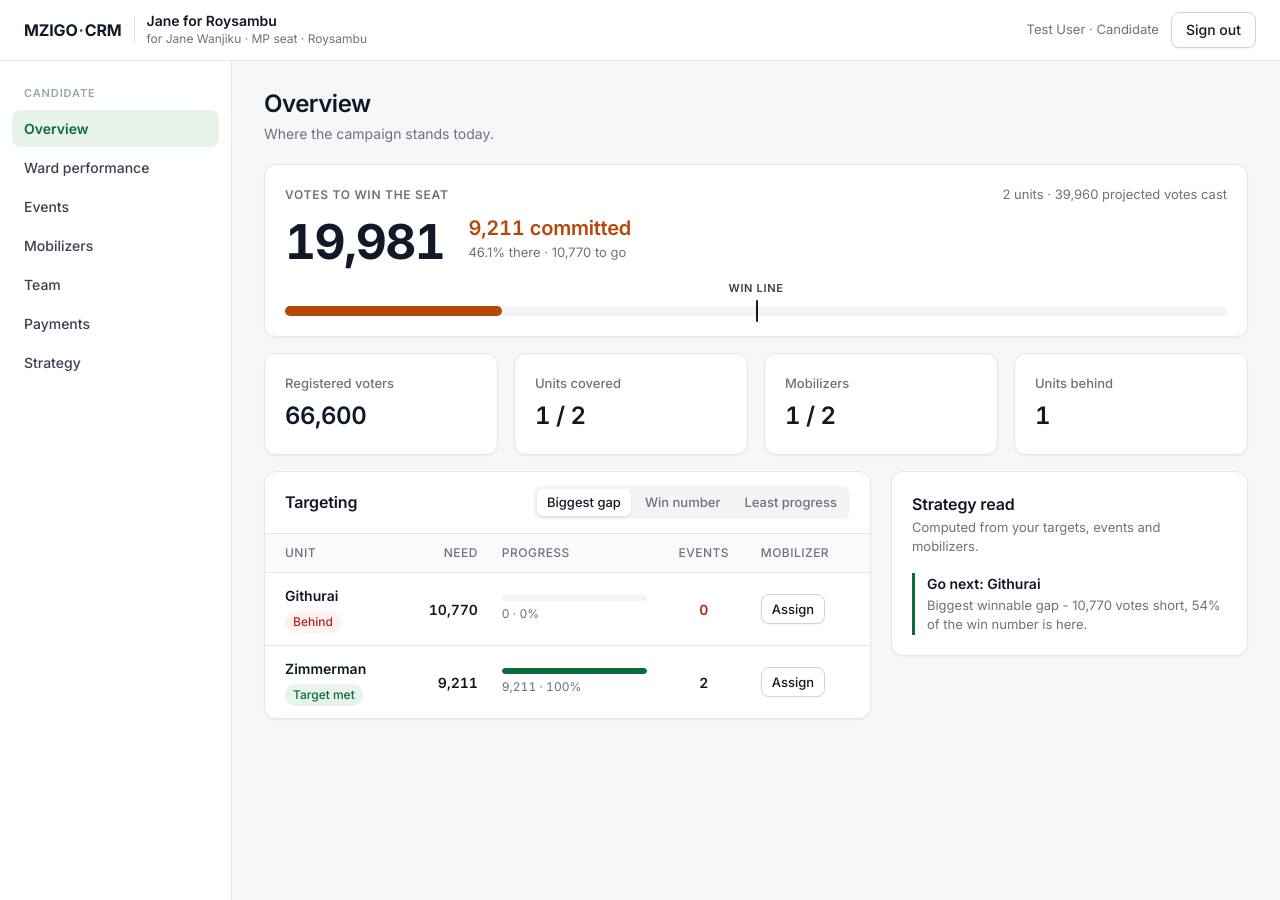
the team page › offers the aspirant Add manager when there is none, and adds without replacing
Click the button "Team".
click(116, 284)  # box [12,266,219,303]
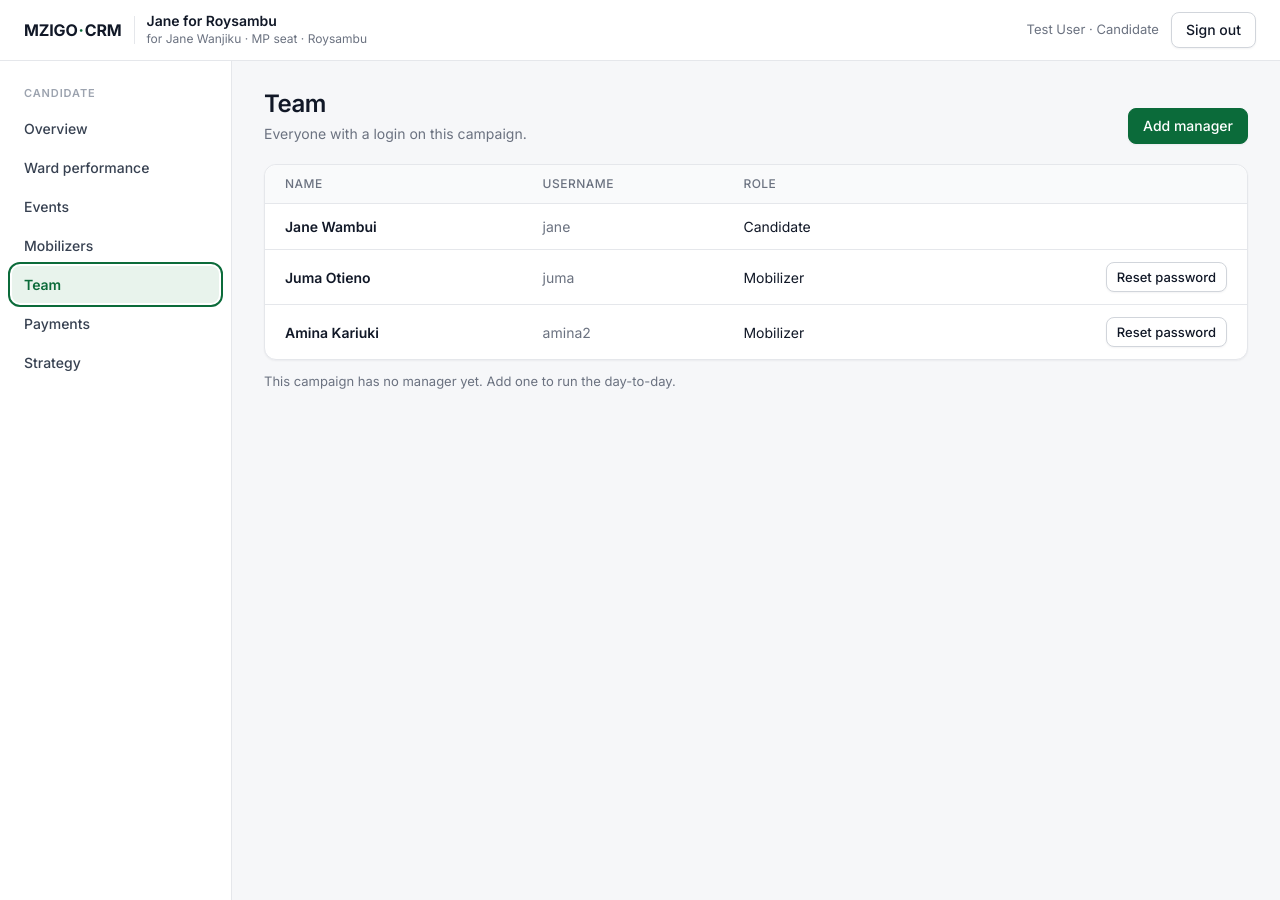
expect the text "Amina Kariuki" is shown: met, box [265,305,531,359]
Click the button "Add manager".
click(1188, 126)  # box [1128,108,1248,144]
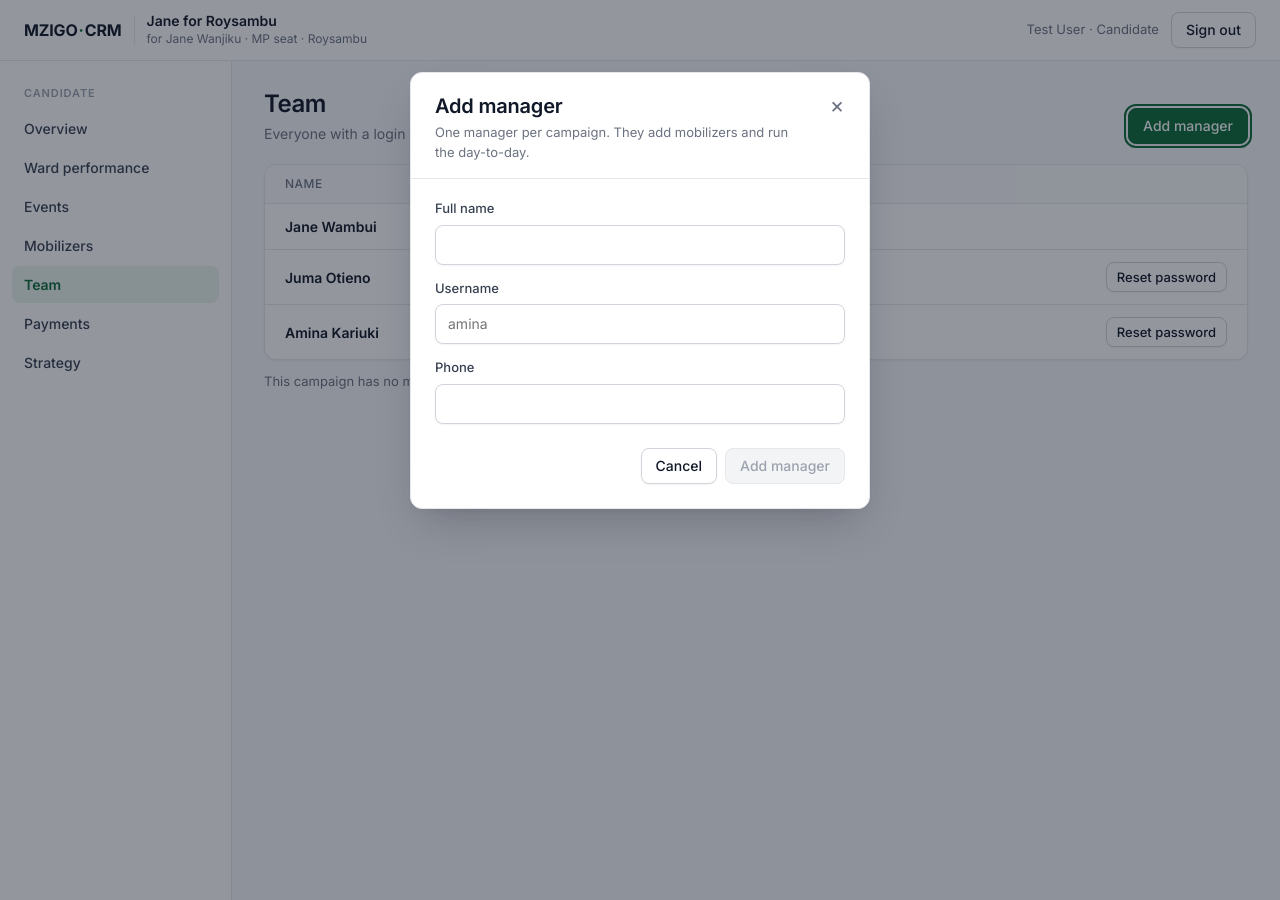
Type "Wanjiru" into the field named "Full name".
click(640, 244); type("Wanjiru")  # box [435,224,845,264]
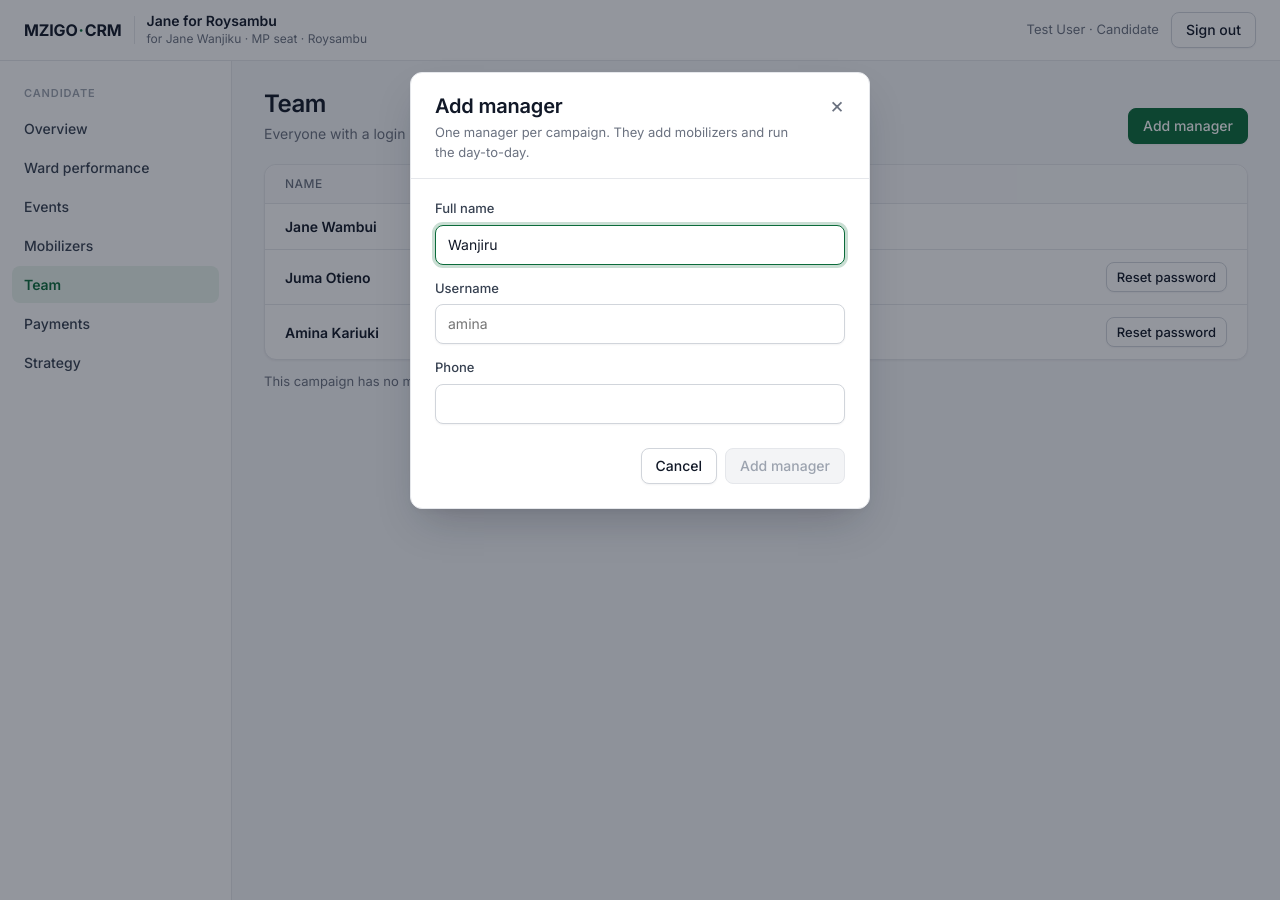
Type "wanjiru" into the field named "Username".
click(640, 324); type("wanjiru")  # box [435,304,845,344]
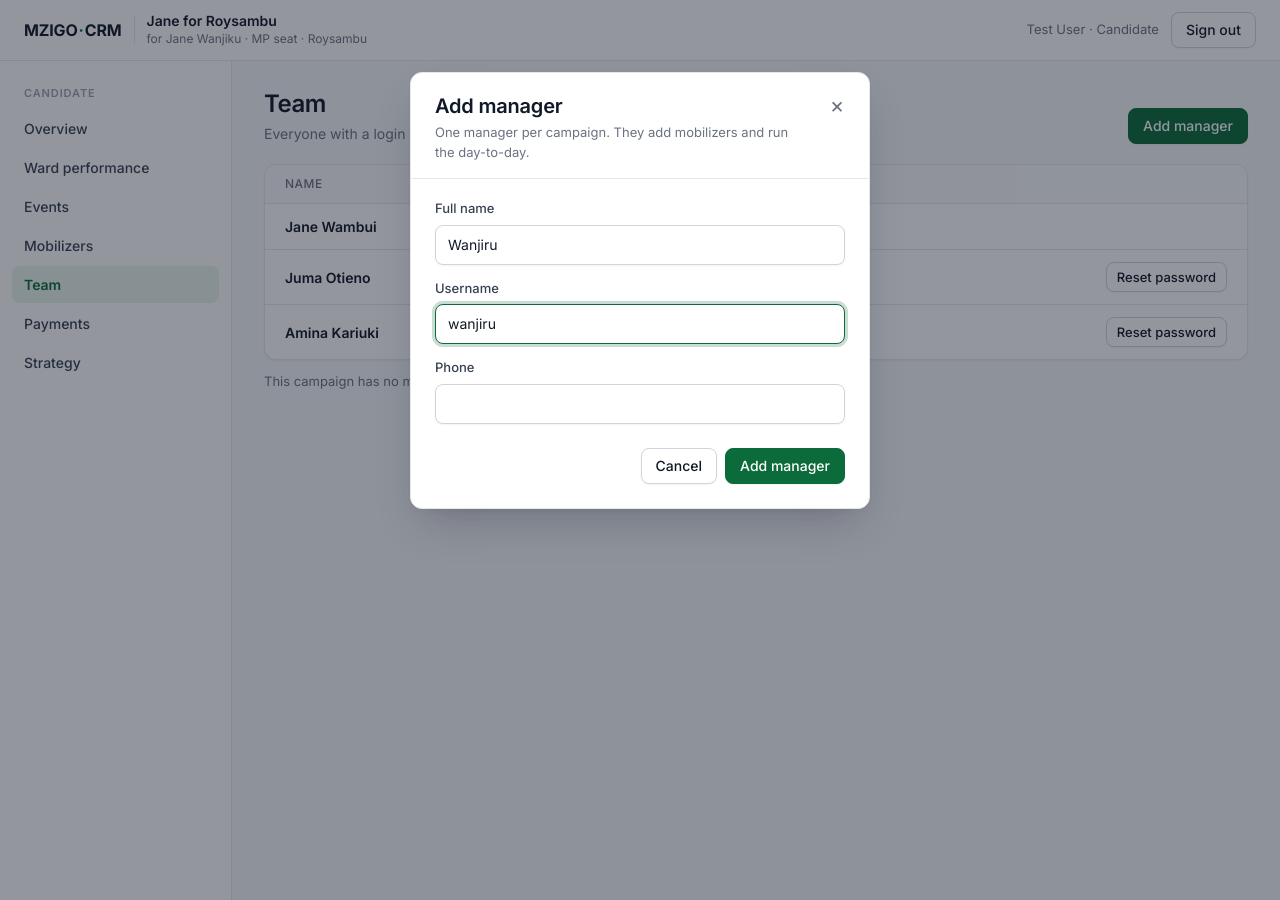
Click the button "Add manager".
click(785, 466)  # box [725,448,845,484]
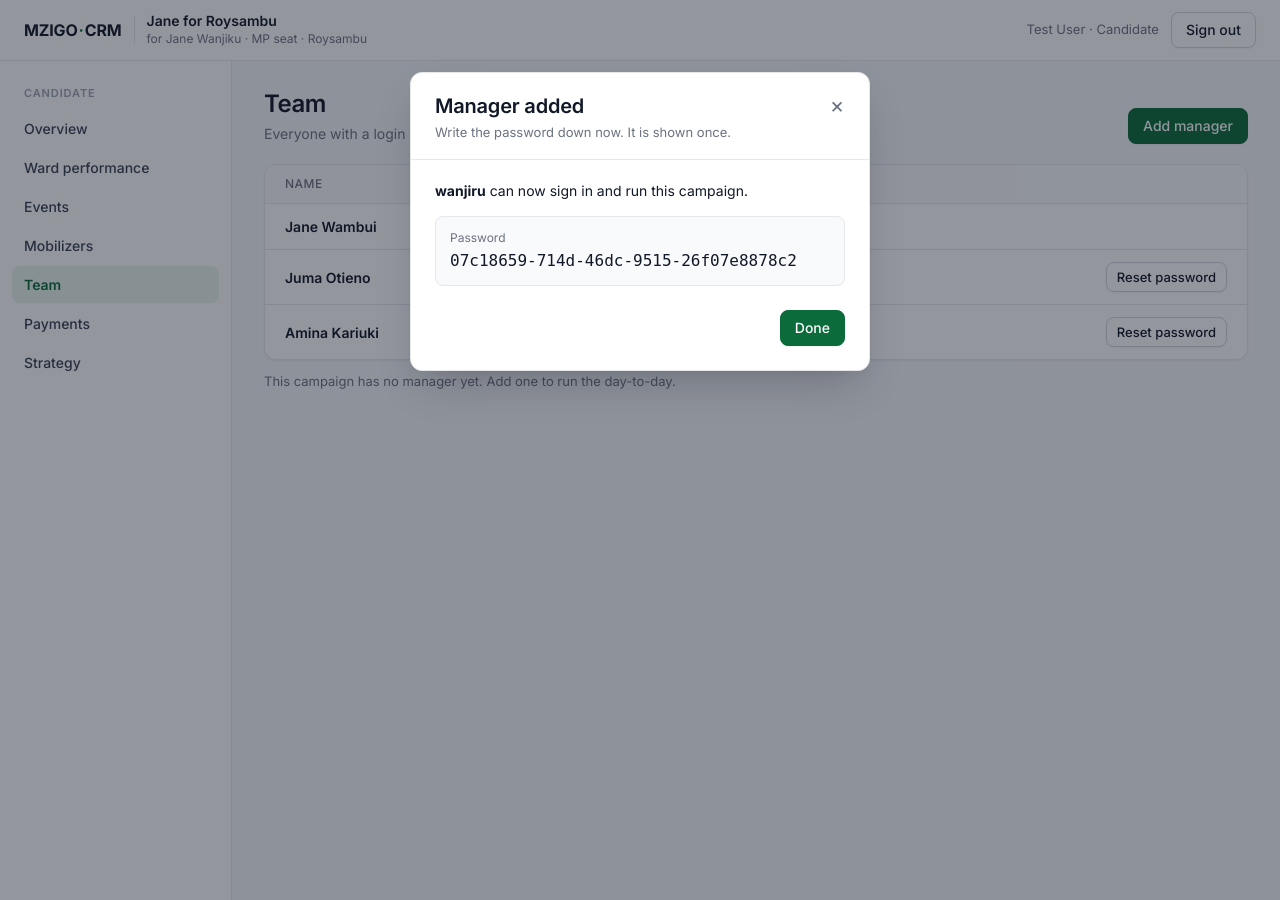
expect the text "Manager added" is shown: met, box [435,94,584,118]
